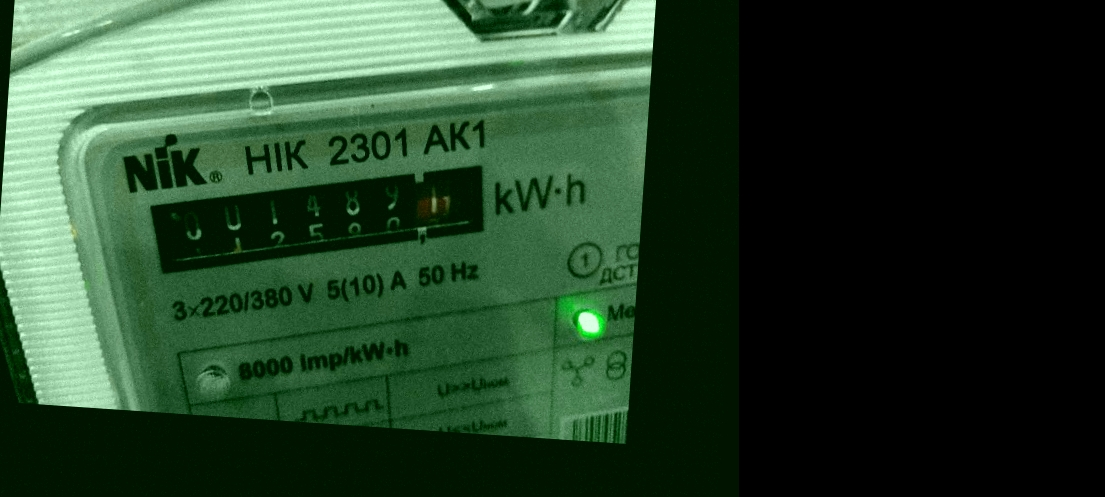0: (217, 195, 246, 233), (179, 206, 205, 243)
1: (422, 177, 444, 216), (262, 194, 284, 226)
4: (301, 187, 325, 219)
8: (341, 181, 364, 219)
9: (380, 178, 402, 211)
screen: (133, 132, 517, 308)
